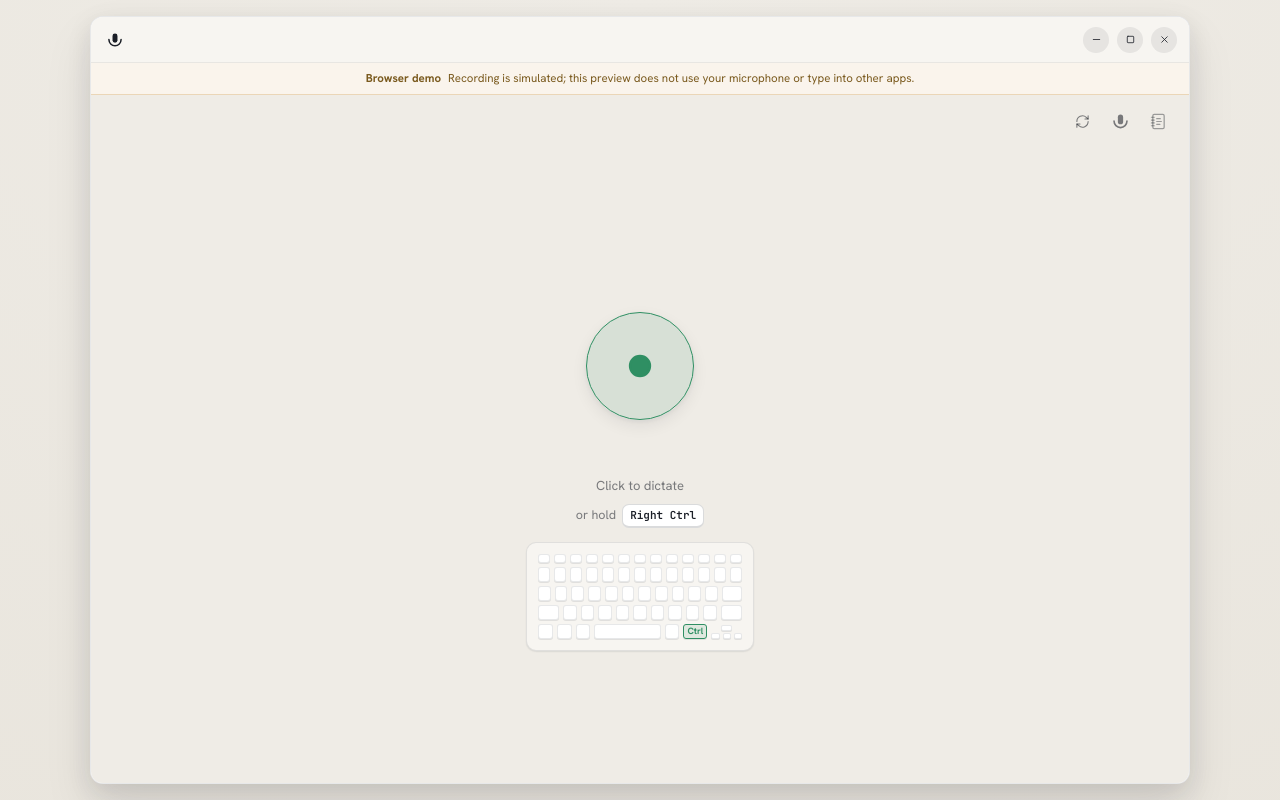
Test: Quiet Console app (mock mode) › teaches the key on a fresh launch, then swaps to copy-last after capturing
Expected: the element with class "gs-kbd" is shown, [526,542,754,651]
Expected: the text "Copy last dictation" is not shown
Step 1. Click the button named "Start recording" → [640, 366], box [586,312,694,420]
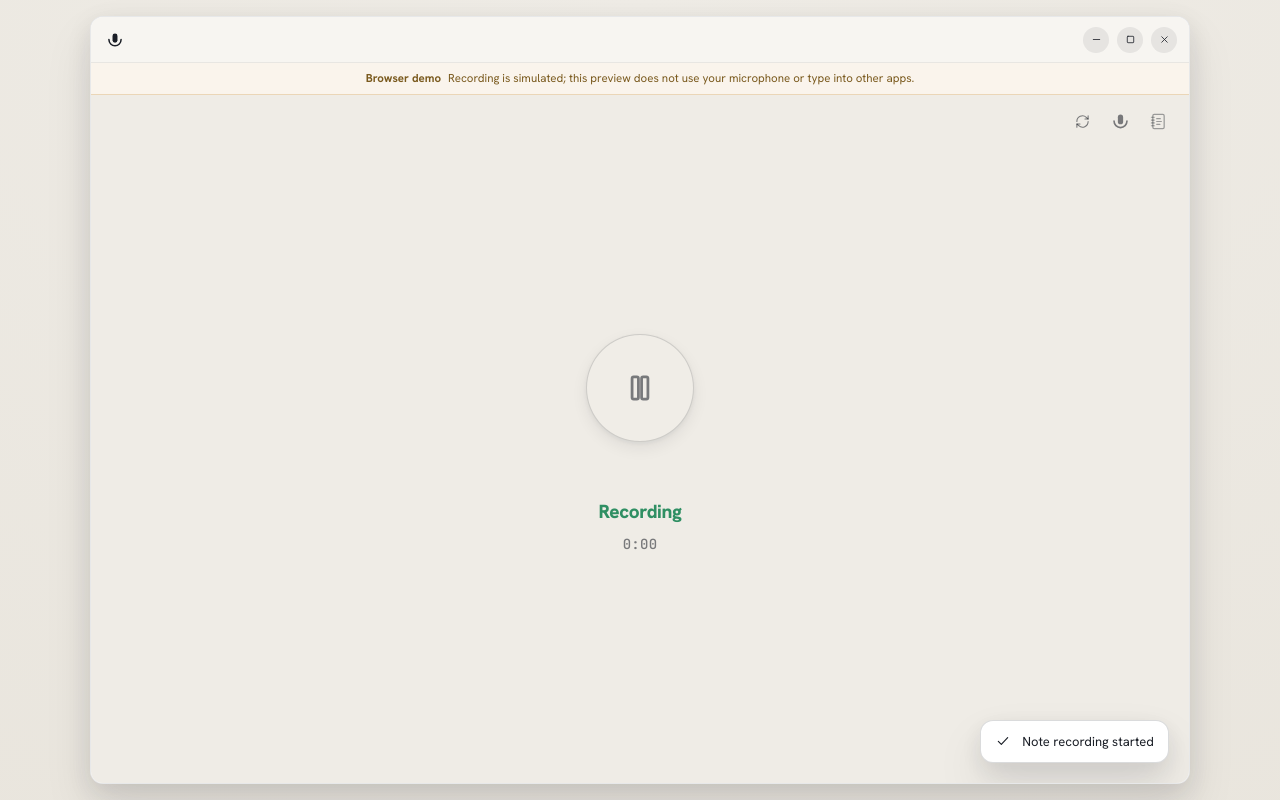
Step 2. Click the button named "Pause recording" → [640, 388], box [586,334,694,442]
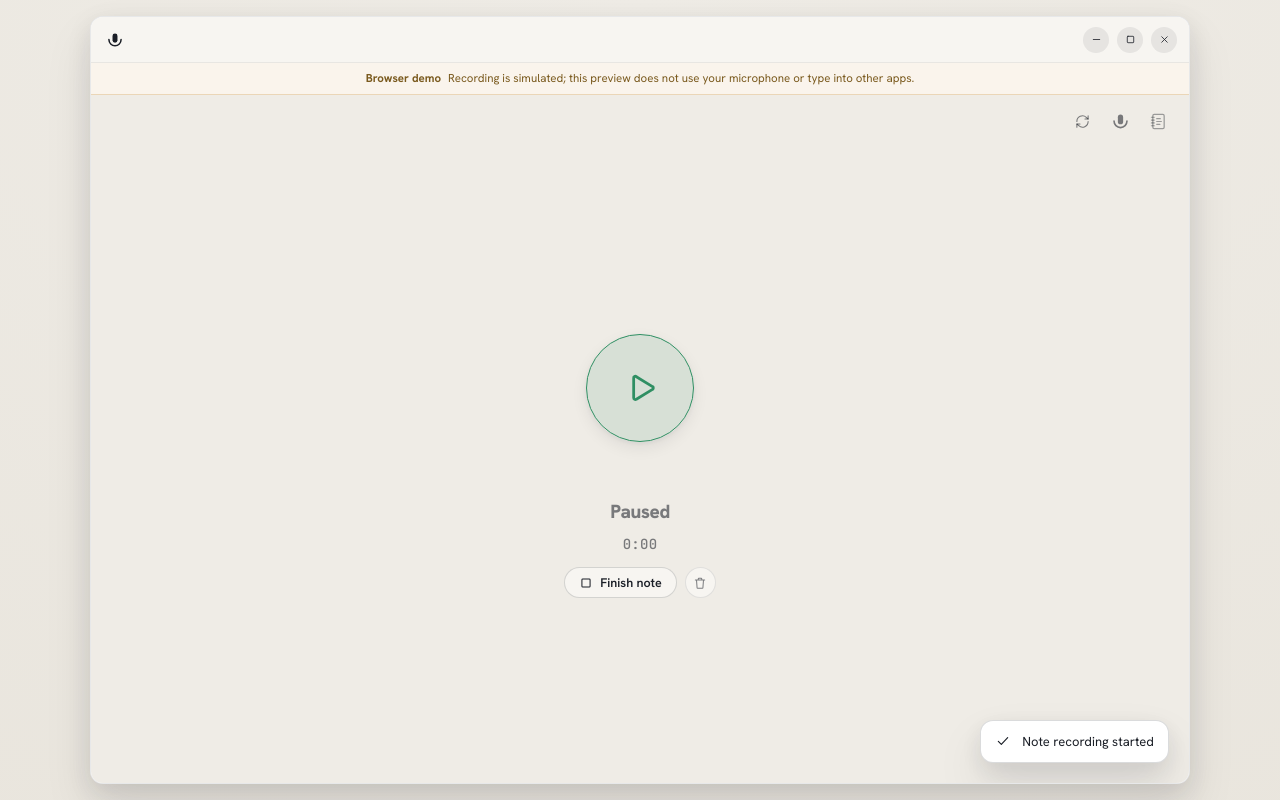
Step 3. Click the button "Finish note" → [620, 582], box [564,567,677,598]
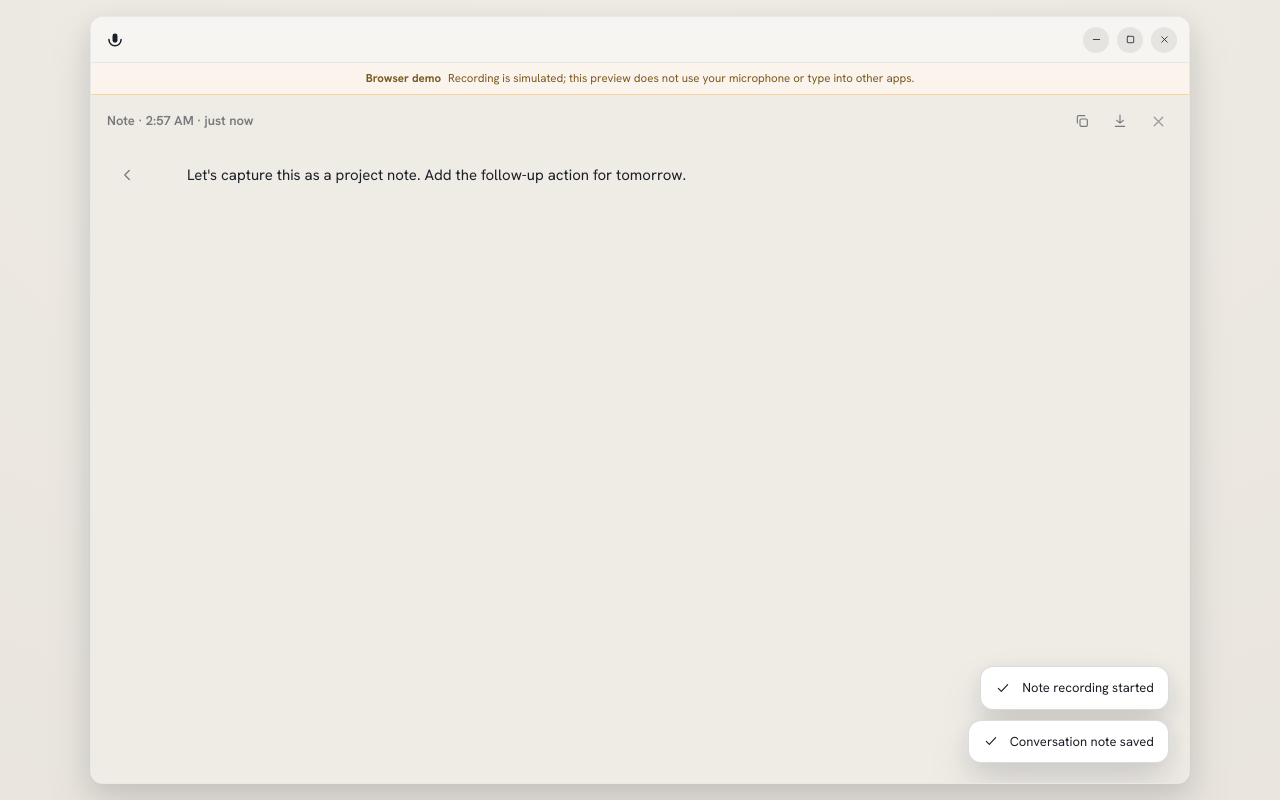
Result: the button titled "Copy" is shown at [1067,107,1097,135]
Step 4. Click the button named "Close note" → [1158, 121], box [1143,107,1173,135]
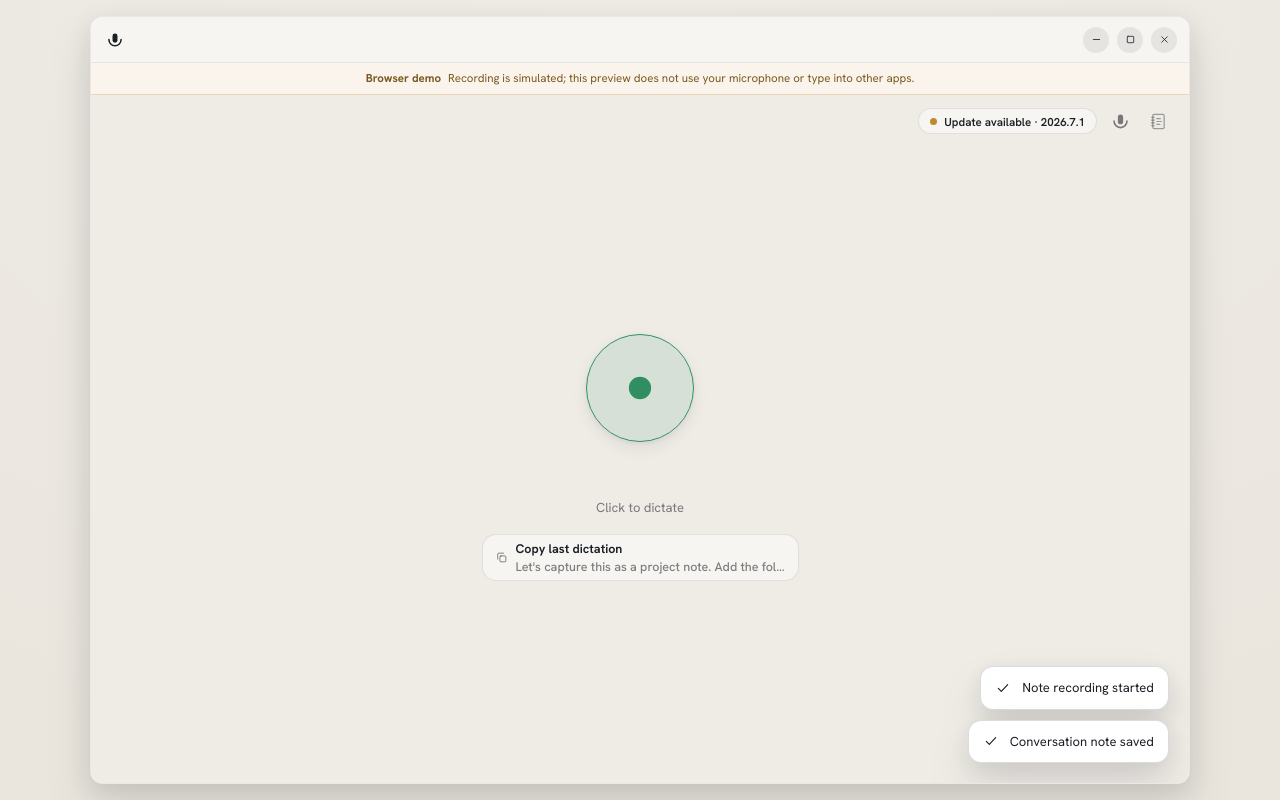
Result: the text "capture this as a project note" is shown at [516,558,934,575]
Result: the text "Copy last dictation" is shown at [516,540,622,557]
